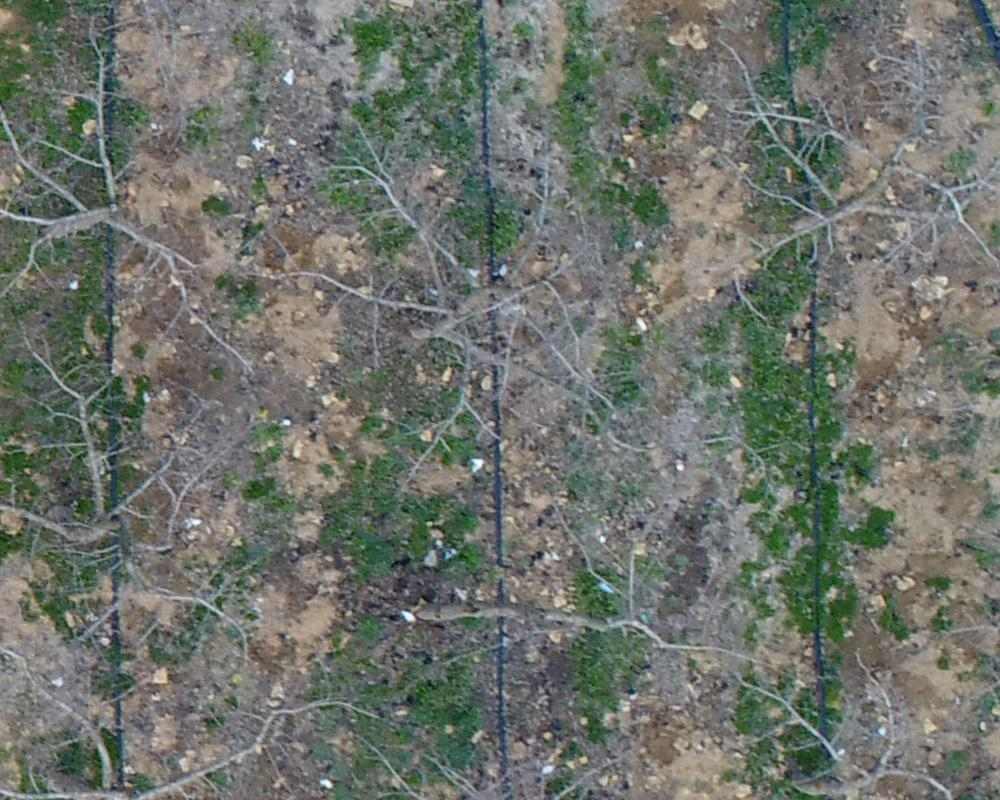apple: (267, 124, 657, 491), (10, 23, 279, 385), (10, 331, 282, 652), (376, 491, 787, 690), (693, 38, 990, 305), (10, 620, 308, 790), (720, 658, 990, 790)
